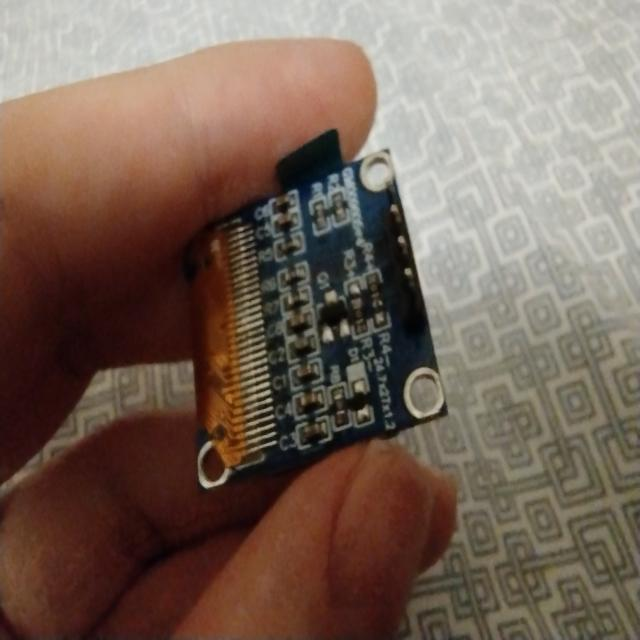oled: (182, 128, 464, 498)
